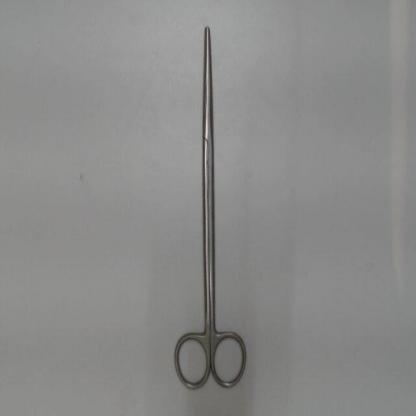9 Metzenbaum Scissors: (168, 21, 252, 394)
